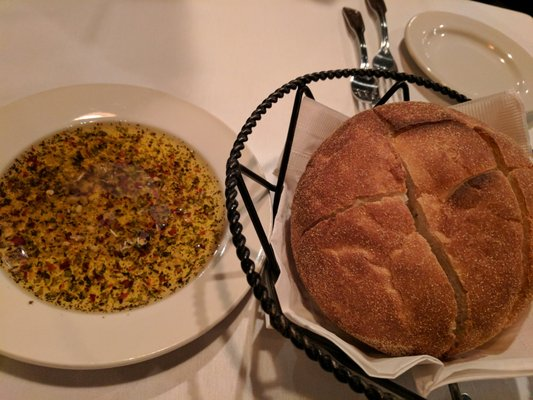curry: (1, 1, 533, 400)
salad: (286, 98, 533, 362)
sushi: (0, 117, 225, 313)
